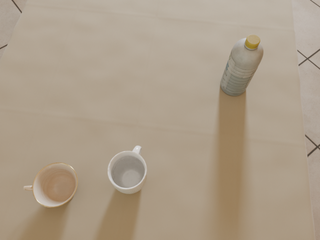bottle: (221, 35, 263, 96)
cup: (24, 163, 78, 207), (108, 146, 147, 194)
